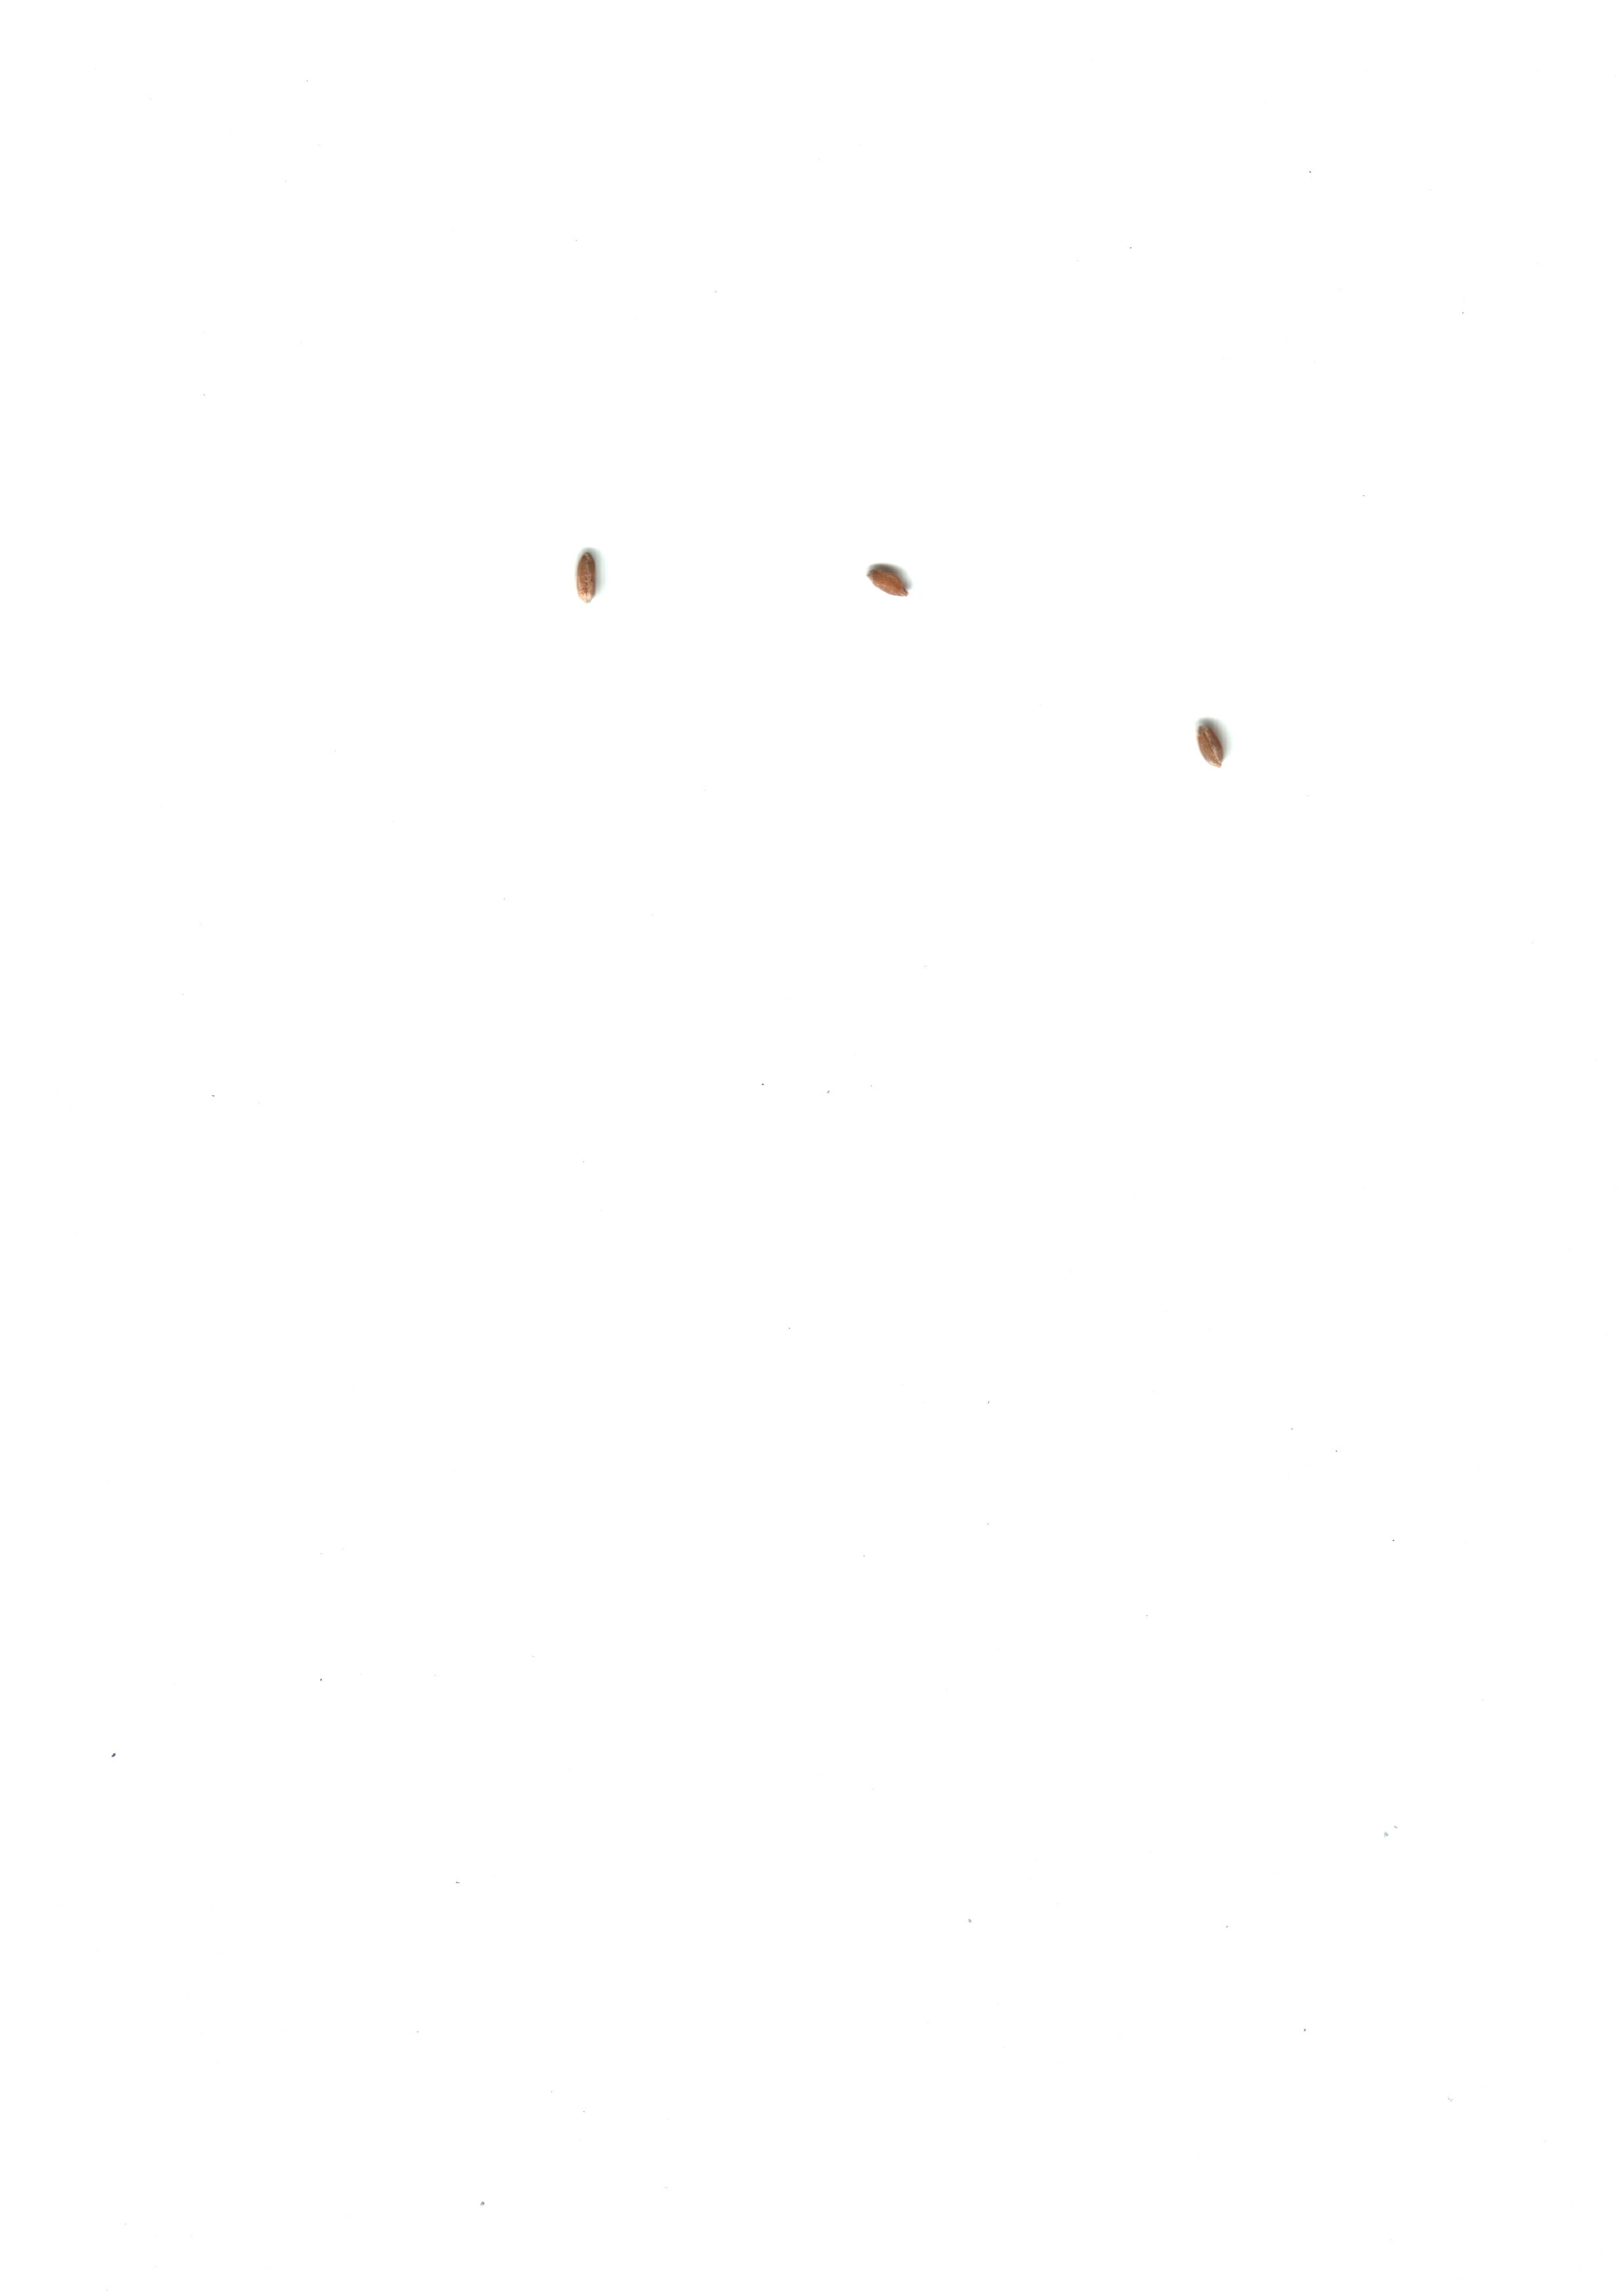grains_3mm: (846, 538, 941, 626), (1162, 699, 1256, 787), (545, 533, 640, 619)
